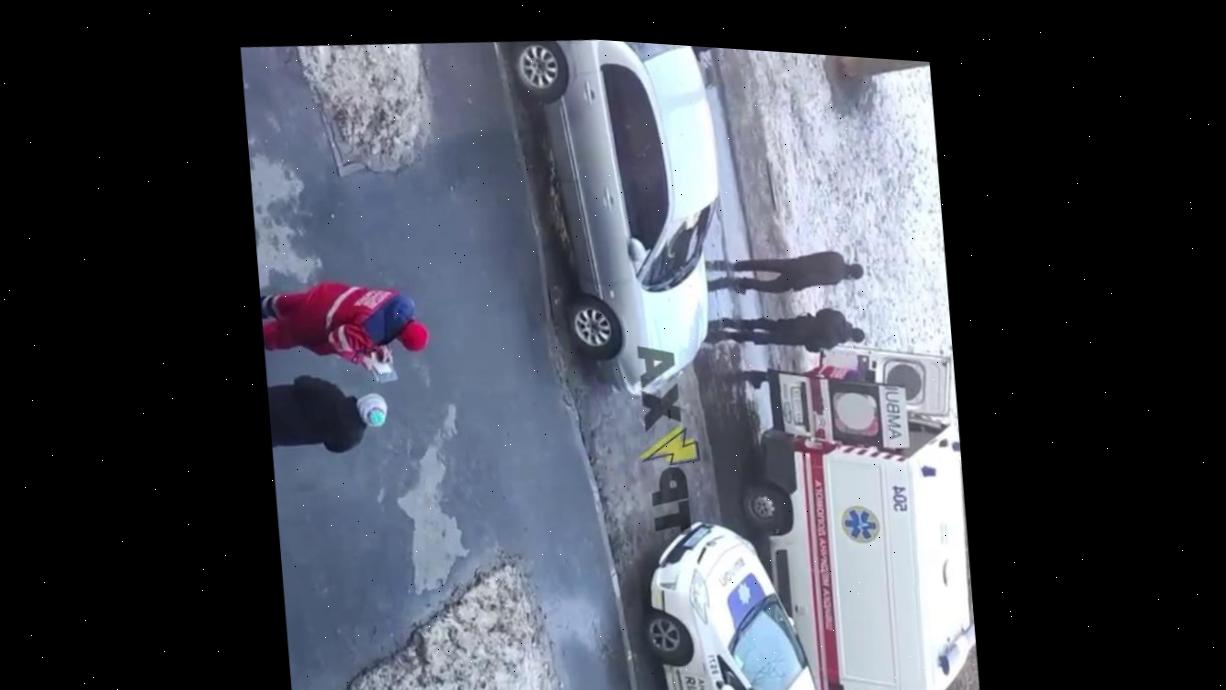car: (505, 34, 738, 412), (632, 505, 835, 690)
person: (257, 267, 432, 396), (265, 365, 389, 462), (728, 297, 870, 366), (732, 240, 865, 304), (675, 45, 813, 72)
